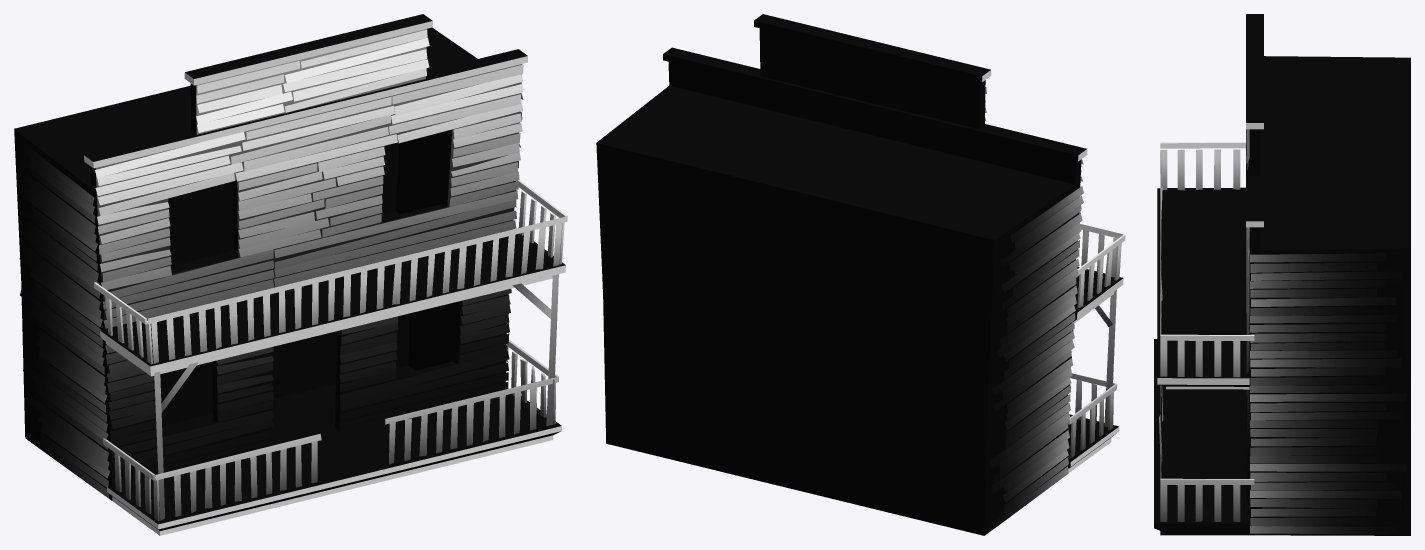
File: Building1.glb
3 views of the same model, side by side, from view 1: azimuth 30°, elevation 25°; view 2: azimuth 150°, elevation 25°; view 3: azimuth 270°, elevation 25° (orthographic). The views are drawn at different scales.
Parts seen in each view (by area): view 1: Building1; view 2: Building1; view 3: Building1.
Part boxes in pixels (left/top/right/bottom): Building1: left=14, top=14, right=567, bottom=535; Building1: left=596, top=14, right=1125, bottom=535; Building1: left=1154, top=14, right=1410, bottom=535.
Size of what is drawn, in the model's own units: 12.97 by 11.52 by 7.09.
Materials: 1 (1 with a texture image).
